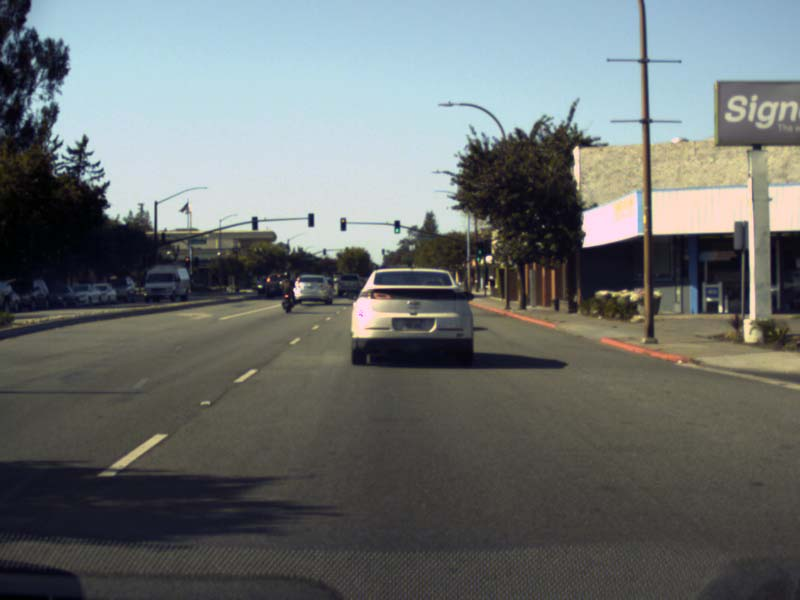Green: (394, 219, 400, 233), (477, 242, 482, 254), (476, 255, 481, 264)
Red: (340, 217, 346, 230)
